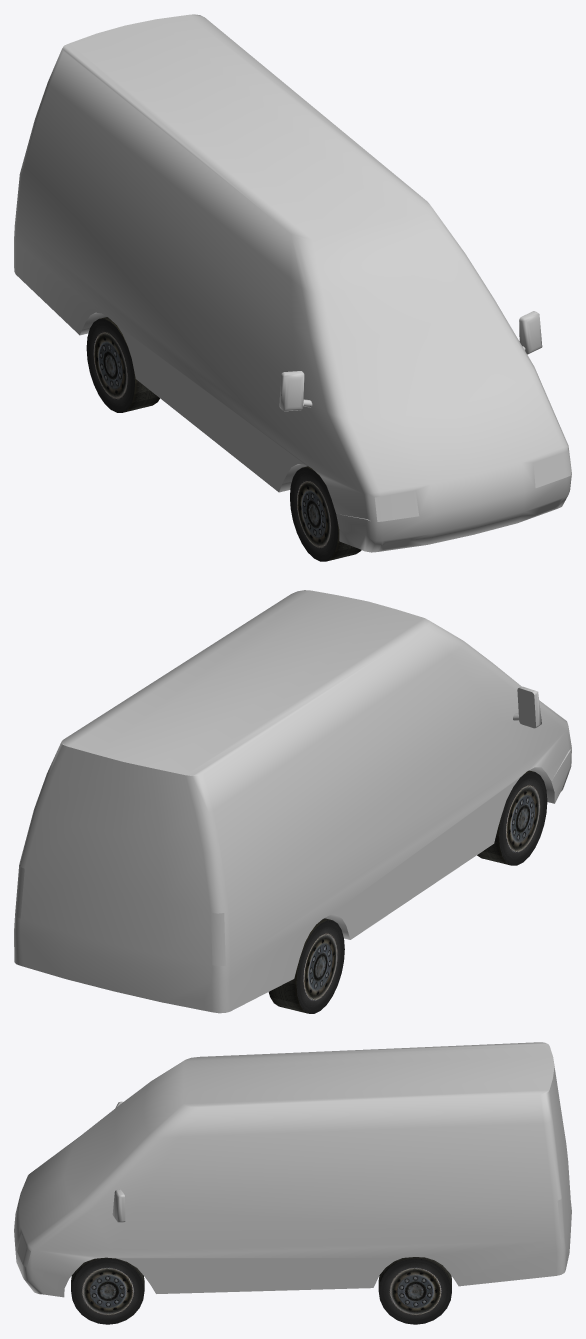
Rendered from Furgao.fbx.
3 views of the same model, one above another, from view 1: azimuth 30°, elevation 25°; view 2: azimuth 150°, elevation 25°; view 3: azimuth 270°, elevation 25° (orthographic). The views are drawn at different scales.
Parts seen in each view (by area): view 1: Car, BR, FR, Car ON; view 2: Car, BR, FR, Car ON; view 3: Car, BL, FL, Car ON.
Part boxes in pixels (x1,y1,x2,y2): Car: (14, 14, 571, 552); BR: (86, 317, 159, 412); FR: (290, 466, 361, 561); Car ON: (374, 450, 571, 521); Car: (14, 590, 571, 1013); BR: (268, 918, 344, 1013); FR: (477, 770, 547, 865); Car ON: (15, 865, 225, 1010); Car: (14, 1042, 571, 1297); BL: (378, 1257, 451, 1324); FL: (71, 1257, 144, 1324); Car ON: (17, 1198, 567, 1268).
Bounding box in the file's own units: 2.15 × 2.3 × 5.28.
